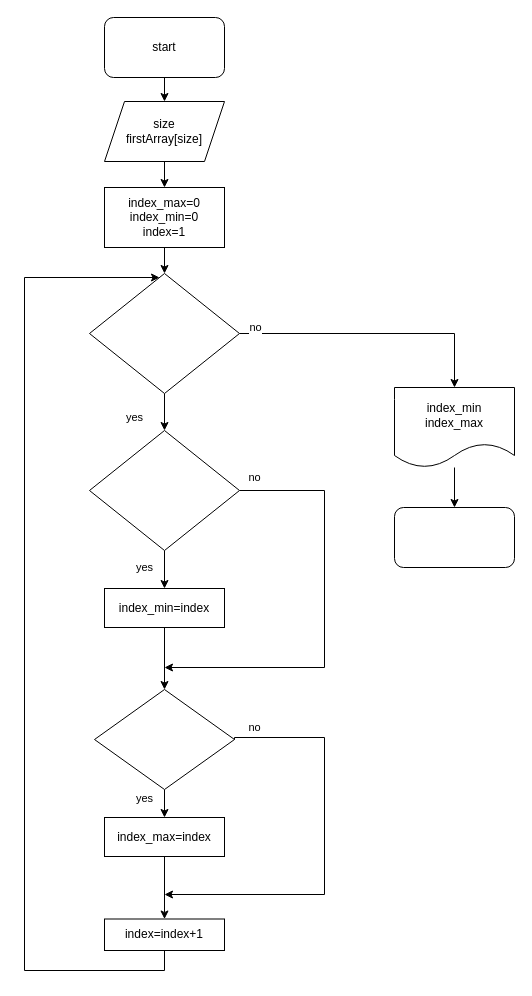
Some shapes in this 532 by 996 pixel diagram are drawn without their labels. Here are the shapes that lost their labels. From the top down, the box of each, then its label:
(88, 272, 240, 394): index<size
(88, 430, 240, 550): array[index]<array[index_min]
(394, 506, 514, 568): finish
(94, 688, 234, 790): array[index] >array[index_max]
